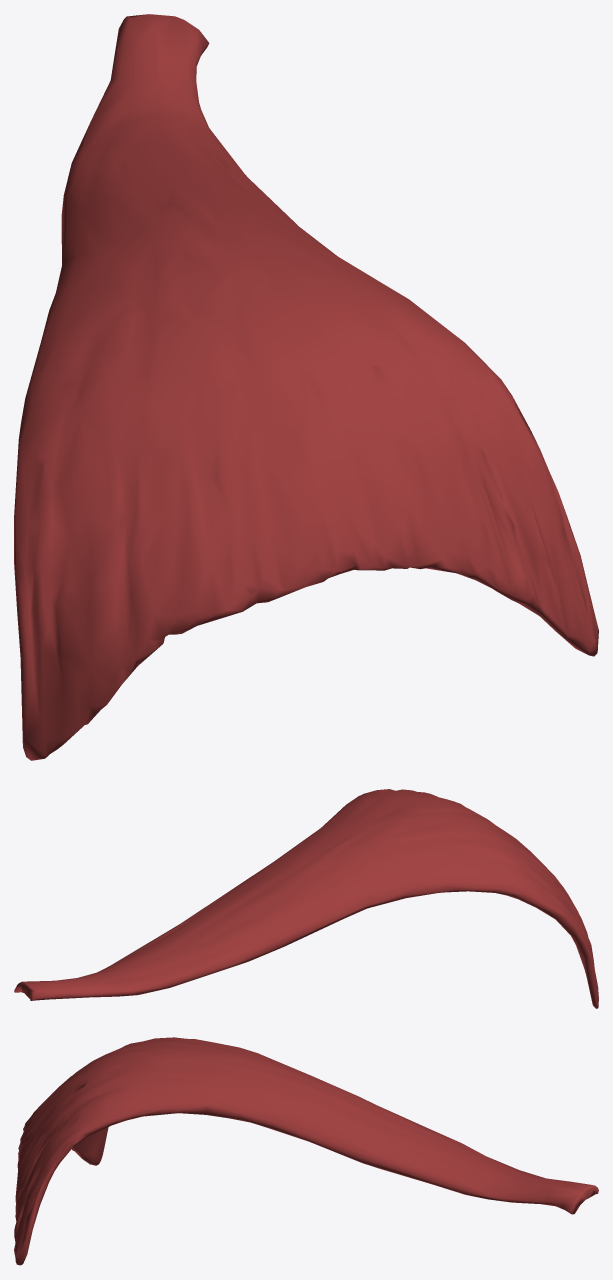
Rendered from levator-palpebrae-superioris-r.glb.
3 views of the same model, one above another, from view 1: azimuth 30°, elevation 25°; view 2: azimuth 150°, elevation 25°; view 3: azimuth 270°, elevation 25° (orthographic). The views are drawn at different scales.
Visible parts, largest first — view 1: Levator palpebrae superioris.r; view 2: Levator palpebrae superioris.r; view 3: Levator palpebrae superioris.r.
Part boxes in pixels (left/top/right/bottom): Levator palpebrae superioris.r: left=14, top=14, right=598, bottom=760; Levator palpebrae superioris.r: left=14, top=789, right=598, bottom=1008; Levator palpebrae superioris.r: left=14, top=1037, right=598, bottom=1265.
Size of the model in its own units: 0.0301 by 0.0158 by 0.046.
